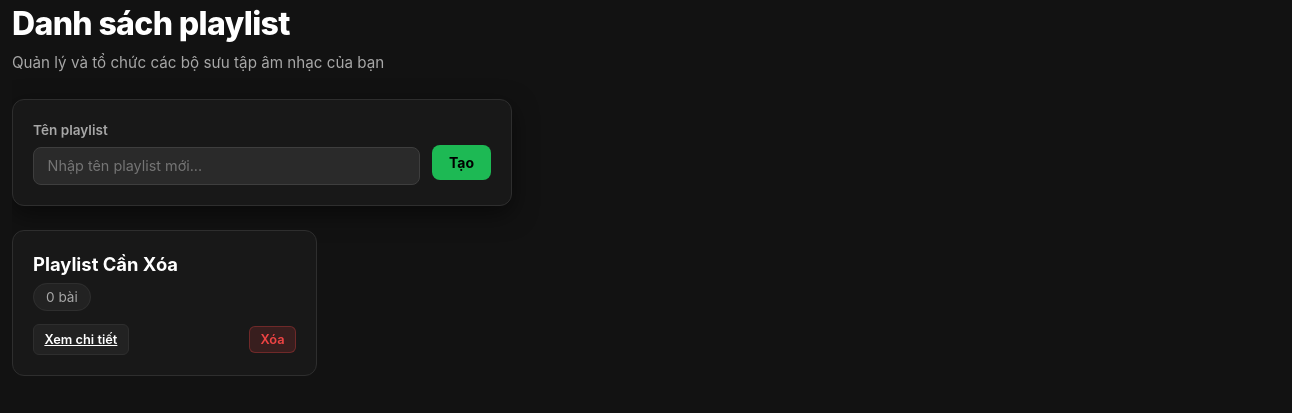
Test: Kiểm thử component PlaylistsPage › bấm nút Xóa thì xóa playlist khỏi danh sách
This screenshot has width=1292, height=413.
Click the button with aria-label "xóa playlist playlist cần xóa" at (273, 339), box 249,326 -> 296,353
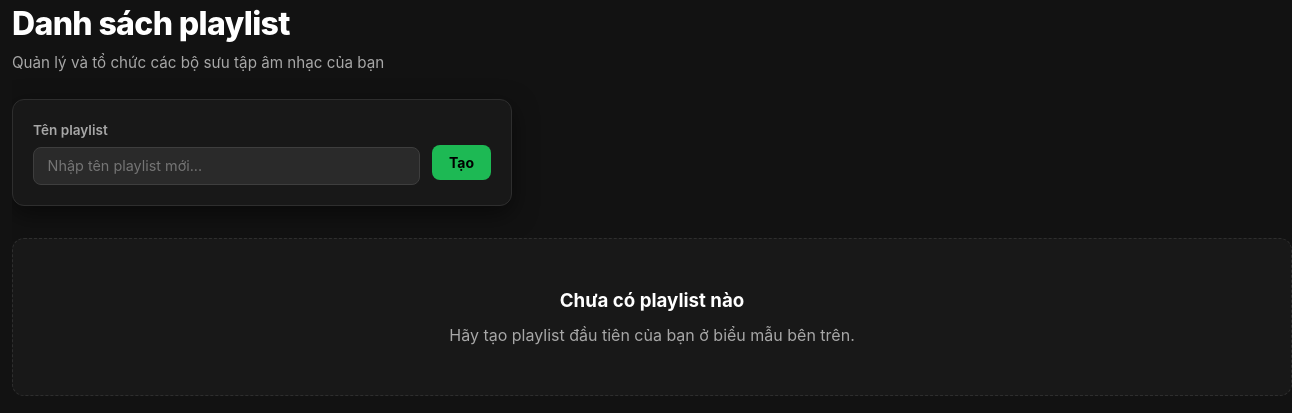
Check: the heading "Playlist Cần Xóa" is gone
